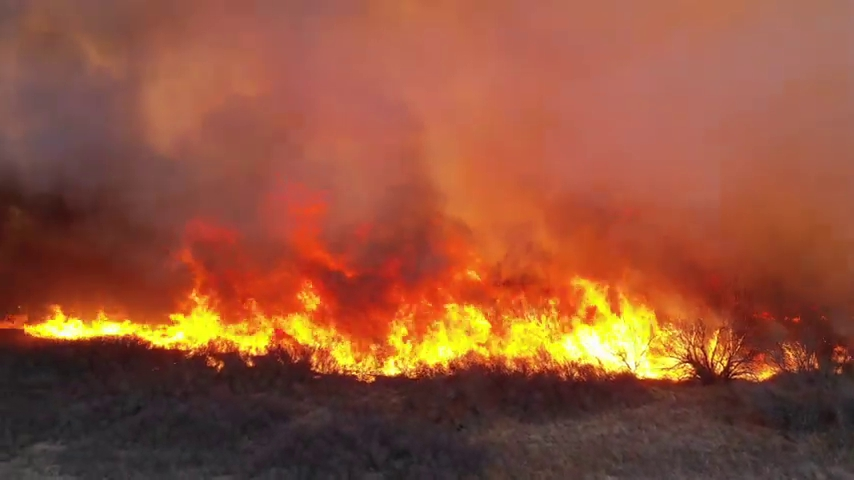forest_fire: (23, 277, 775, 379)
